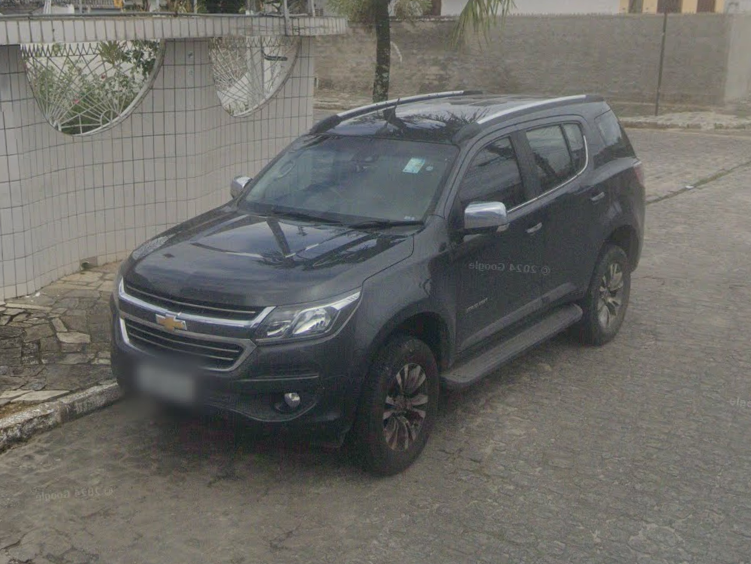car: (110, 86, 648, 475)
